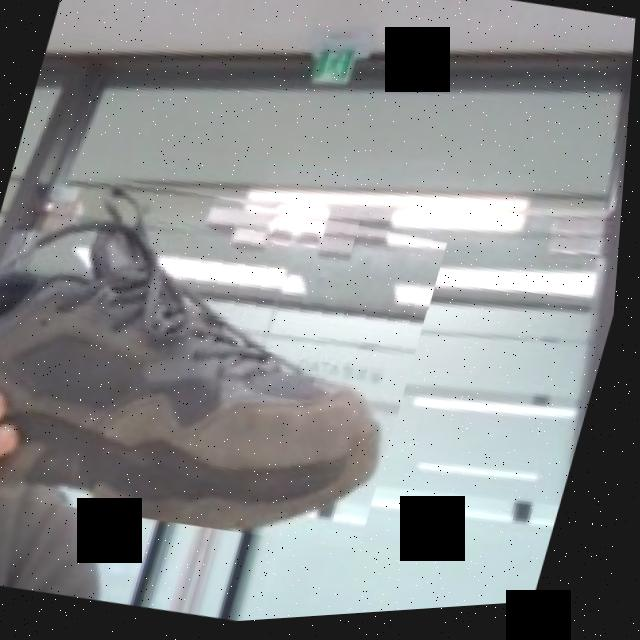shoe: (0, 134, 462, 576)
